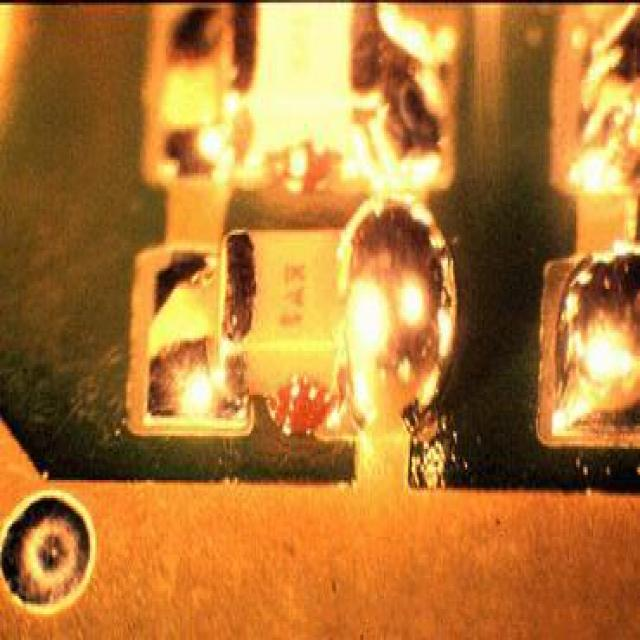redundant: (339, 200, 456, 432)
